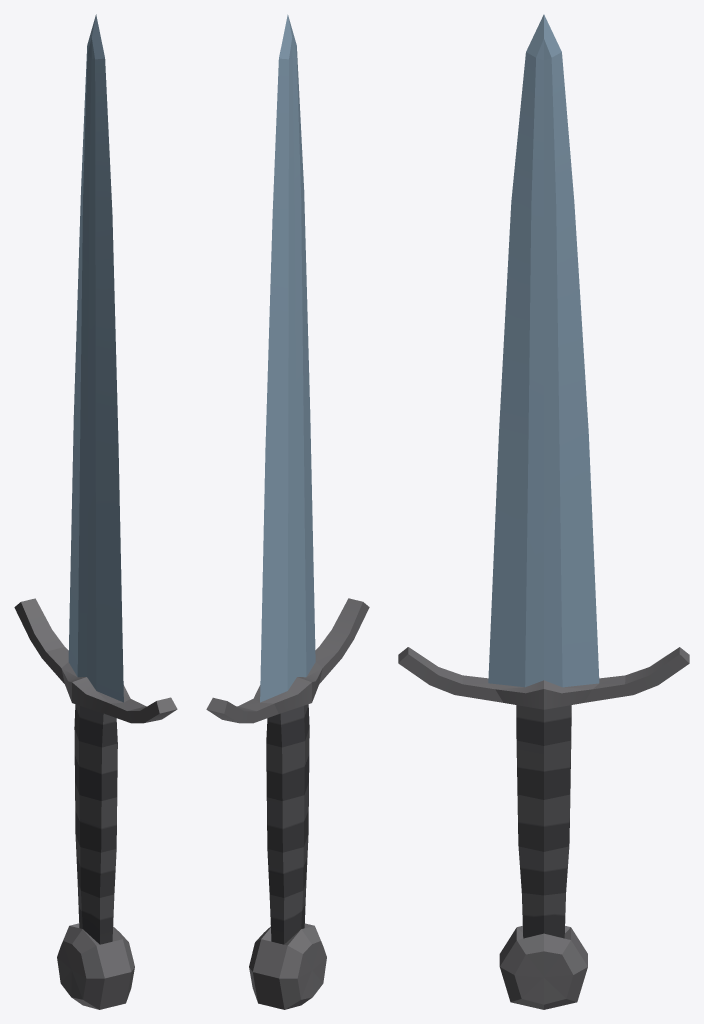
Rendered from Md_Prop_StraightSword_03.fbx.
3 renders of one model, left to right at view 1: azimuth 30°, elevation 25°; view 2: azimuth 150°, elevation 25°; view 3: azimuth 270°, elevation 25°, orthographic.
Parts seen in each view (by area): view 1: Md_Prop_StraightSword_03; view 2: Md_Prop_StraightSword_03; view 3: Md_Prop_StraightSword_03.
Boxes of the visible parts, left/top/right/bottom form: Md_Prop_StraightSword_03: left=14, top=14, right=177, bottom=1009; Md_Prop_StraightSword_03: left=206, top=14, right=369, bottom=1009; Md_Prop_StraightSword_03: left=398, top=14, right=689, bottom=1009.
Bounding box in the file's own units: 6.04 × 115 × 30.72.
1 material, 1 textured.
